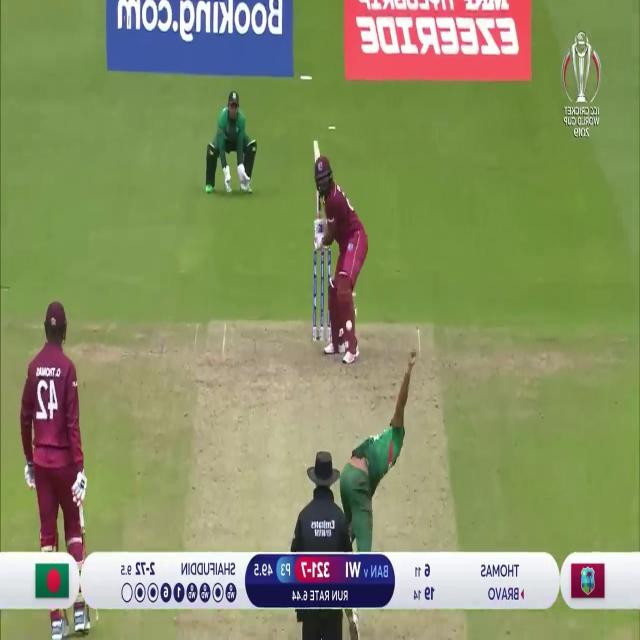ball: (345, 316, 353, 340)
